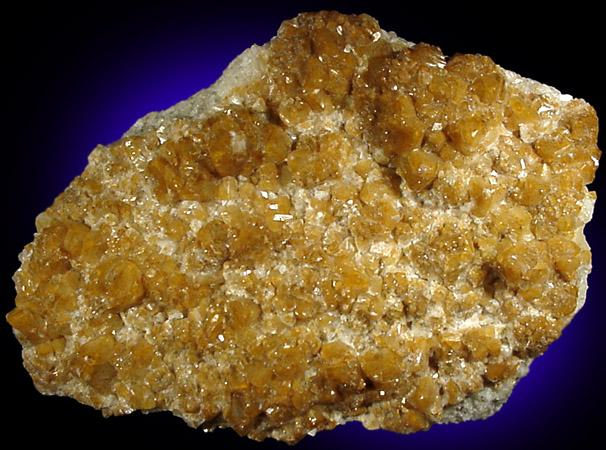calcite: (258, 109, 495, 342), (119, 45, 271, 150), (249, 396, 384, 442), (112, 185, 184, 256), (436, 380, 518, 424)
